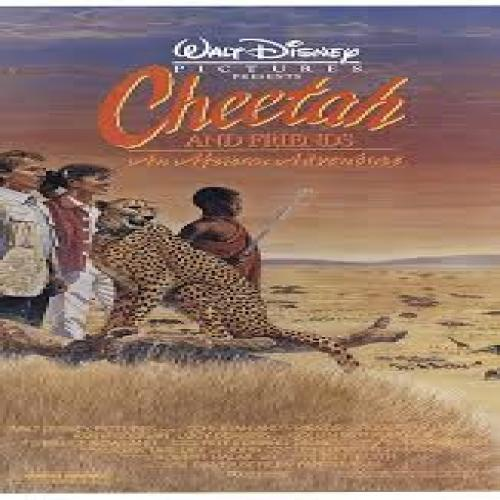cheetah-endangered: (86, 196, 356, 366)
